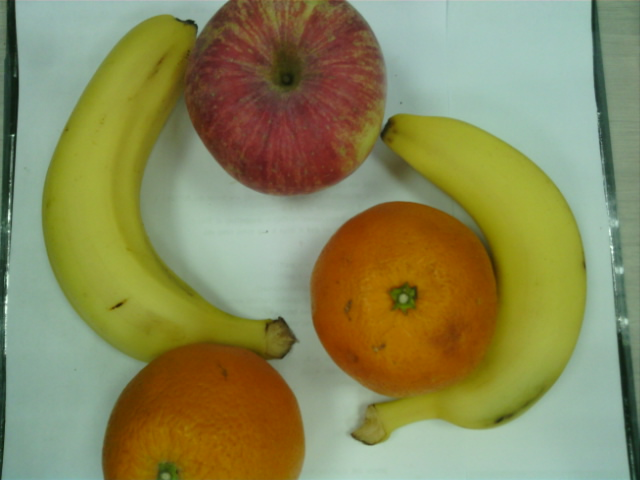normal_apple: (187, 2, 386, 196)
normal_banana: (42, 15, 300, 359), (351, 115, 585, 445)
normal_orange: (310, 202, 499, 396), (104, 344, 306, 480)
